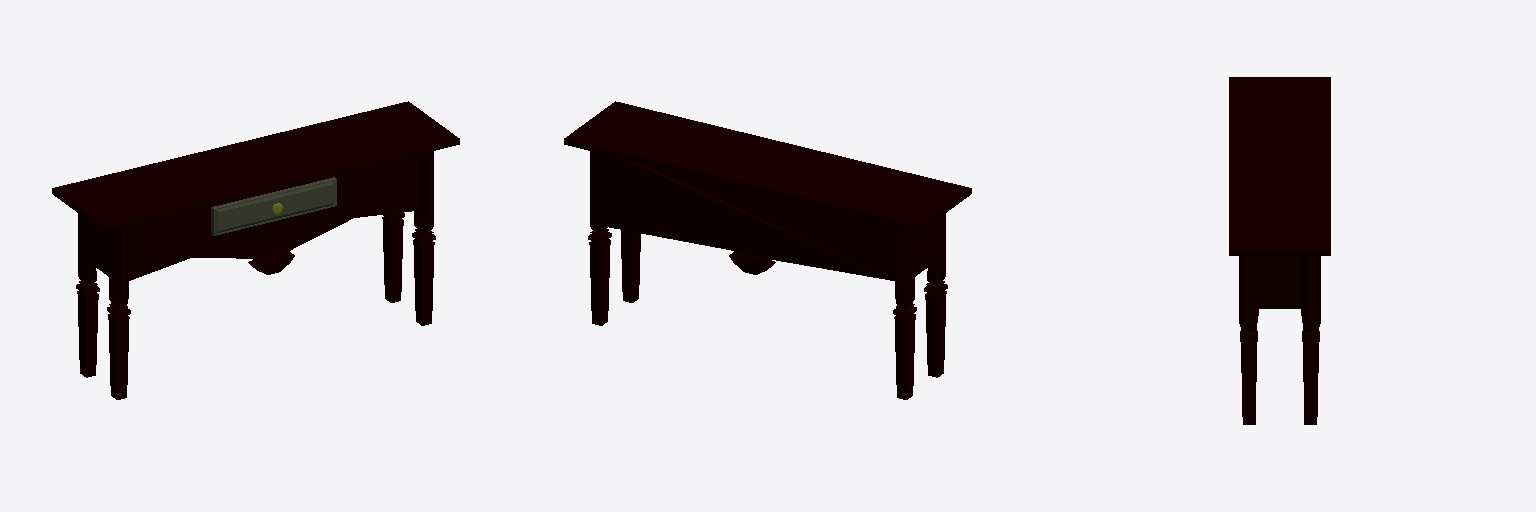
File: drawer.obj
3 renders of one model, left to right at view 1: azimuth 30°, elevation 25°; view 2: azimuth 150°, elevation 25°; view 3: azimuth 270°, elevation 25°, orthographic.
Visible parts, largest first — view 1: Default; view 2: Default; view 3: Default.
Boxes of the visible parts, x1,y1,x2,y2 form: Default: [52, 101, 459, 399]; Default: [564, 101, 971, 399]; Default: [1229, 77, 1330, 424].
Size of the model in its own units: 1.5 by 0.7425 by 0.375.